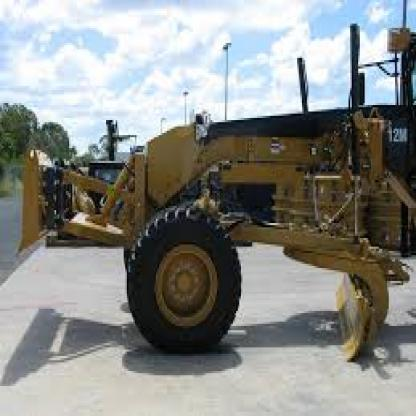bull_dozer/loader/grader: (26, 45, 414, 403)
